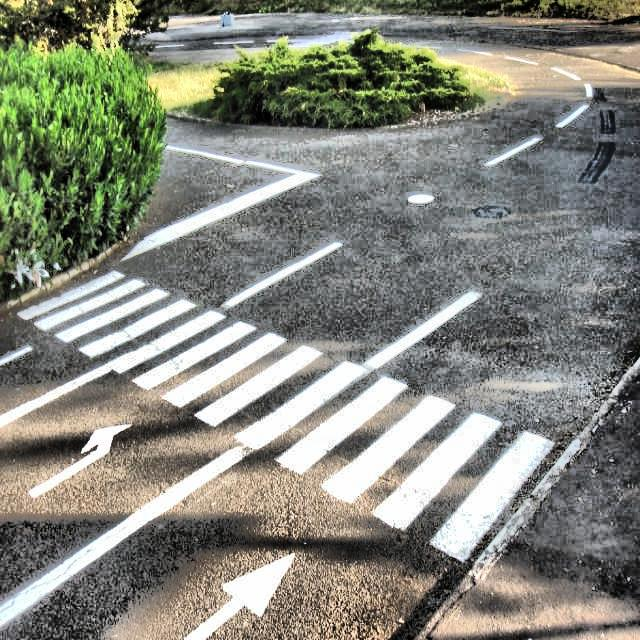faixa de pedestre: (28, 269, 558, 578)
